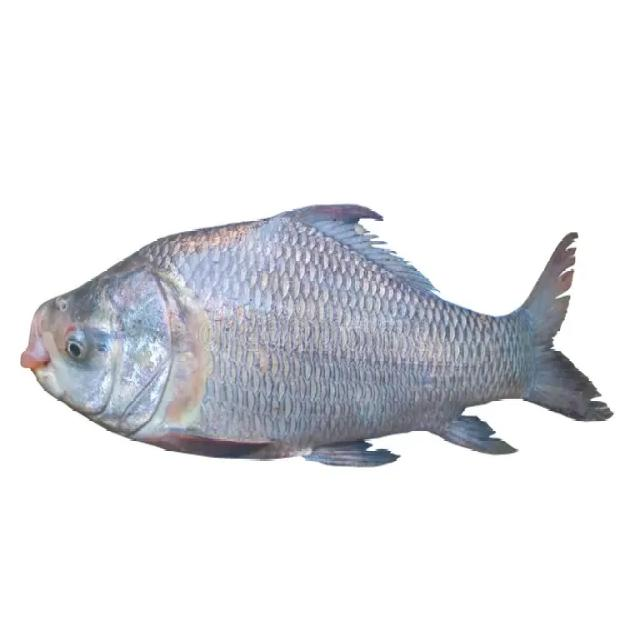Catla: (21, 203, 615, 468)
